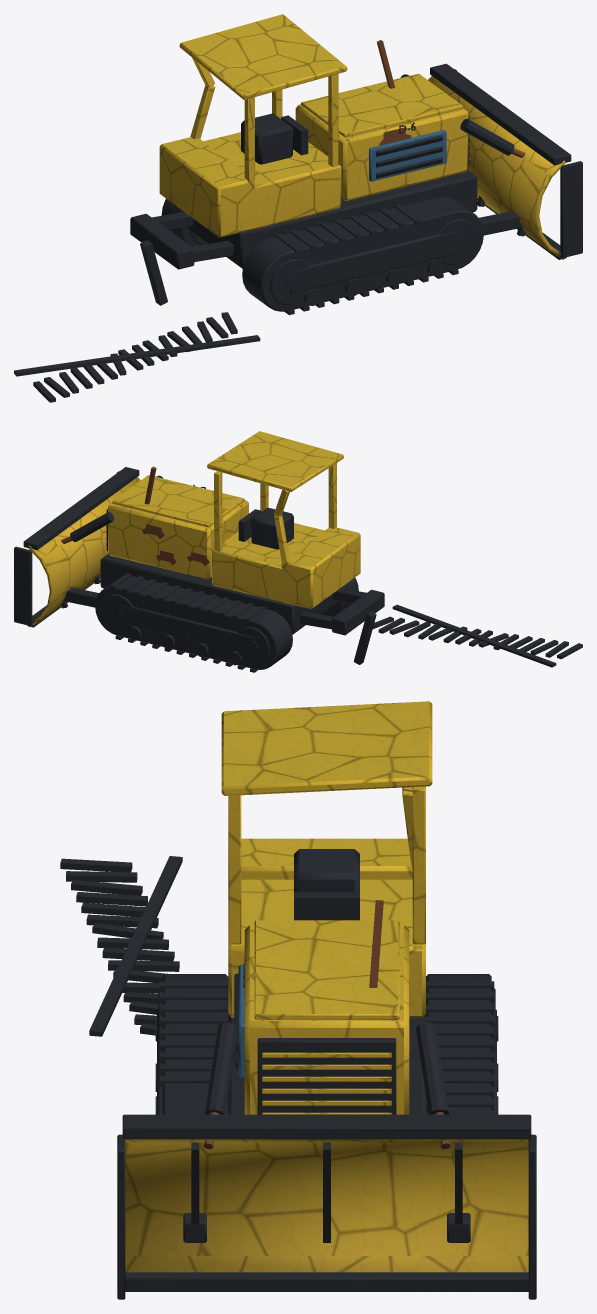
File: bulldozer_wreck.glb
3 renders of one model, top to bottom at view 1: azimuth 30°, elevation 25°; view 2: azimuth 150°, elevation 25°; view 3: azimuth 270°, elevation 25°, orthographic. The views are drawn at different scales.
Visible parts, largest first — view 1: bulldozer_wreck; view 2: bulldozer_wreck; view 3: bulldozer_wreck.
Part boxes in pixels (<box>): bulldozer_wreck: <box>14,14,582,402</box>; bulldozer_wreck: <box>14,431,582,672</box>; bulldozer_wreck: <box>60,701,536,1299</box>.
Bounding box in the file's own units: 7.9 × 3.14 × 3.61.
Materials: 8 (8 with a texture image).
